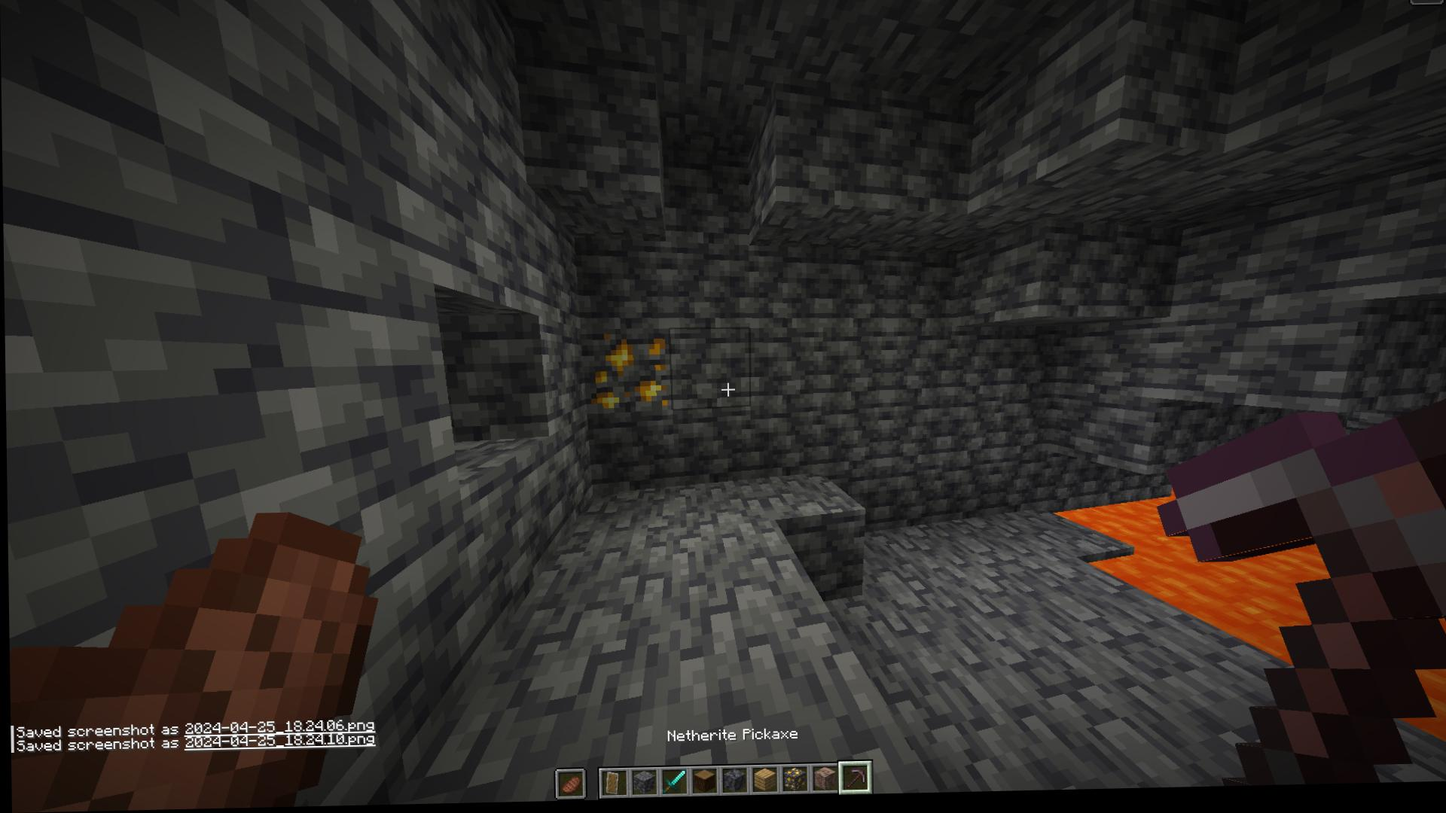gold ore: (583, 331, 669, 415)
